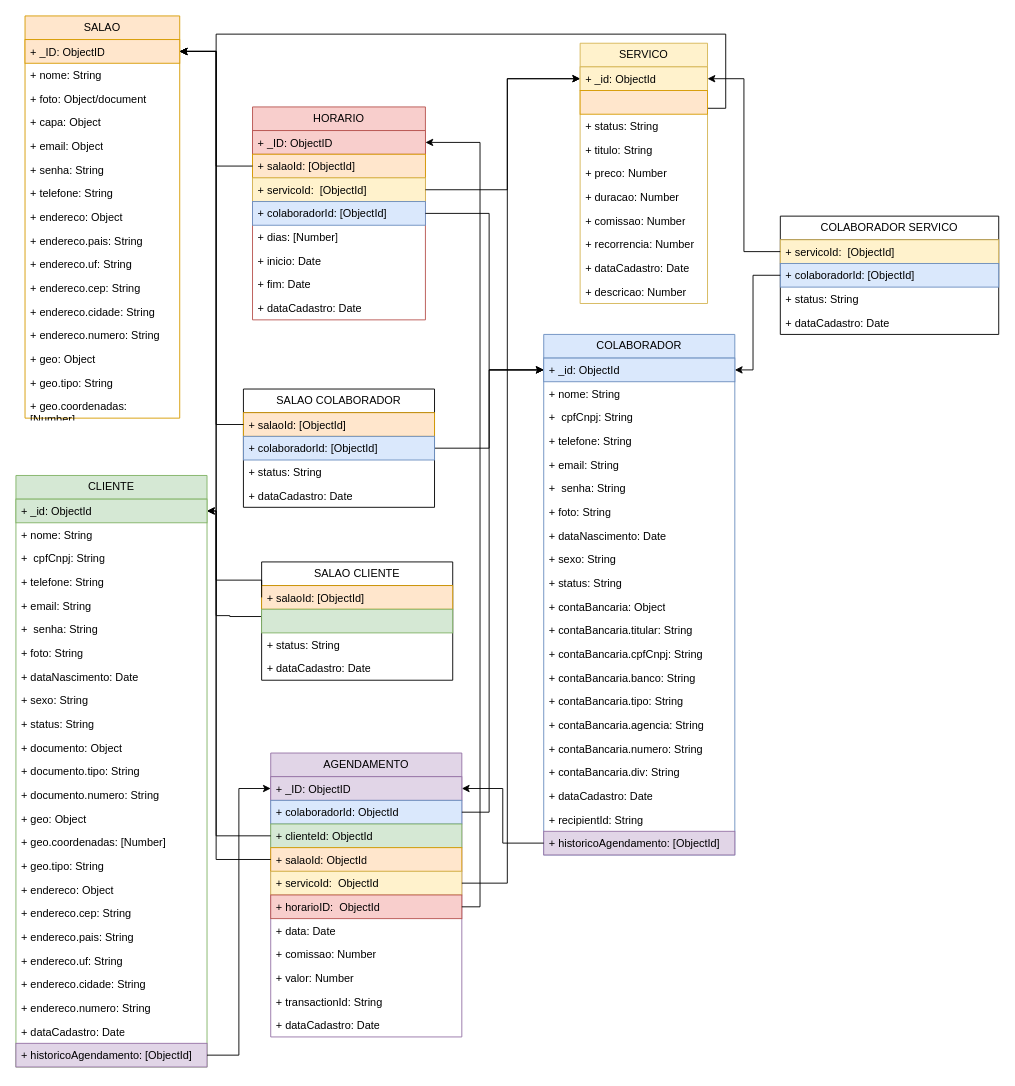
This 1015x1086 diagram has some shape labels left out. Here are the shapes that lost their labels. From the top down, the centre of each, then its label:
the point at 643,102: + salaoId: ObejctId
the point at 357,620: + clienteId: [ObjectId]
